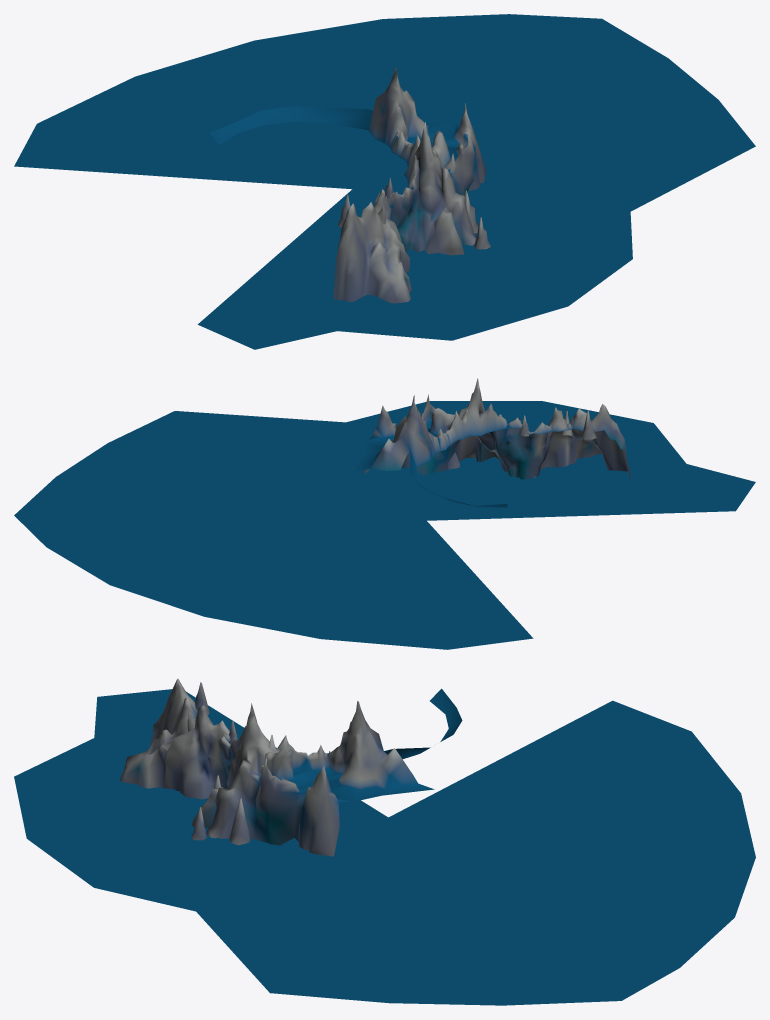
3 renders of one model, top to bottom at view 1: azimuth 30°, elevation 25°; view 2: azimuth 150°, elevation 25°; view 3: azimuth 270°, elevation 25°, orthographic. The views are drawn at different scales.
Parts seen in each view (by area): view 1: G:\FFXIV-MapTools\exports\w1f5\bg\ffxiv\wil_w1\fld\w1f5\bgpa (×2); view 2: G:\FFXIV-MapTools\exports\w1f5\bg\ffxiv\wil_w1\fld\w1f5\bgpa; view 3: G:\FFXIV-MapTools\exports\w1f5\bg\ffxiv\wil_w1\fld\w1f5\bgpa (×2).
Part boxes in pixels (x1,y1,x2,y2): G:\FFXIV-MapTools\exports\w1f5\bg\ffxiv\wil_w1\fld\w1f5\bgpa (×2): (14,14,755,349); G:\FFXIV-MapTools\exports\w1f5\bg\ffxiv\wil_w1\fld\w1f5\bgpa: (14,378,755,649); G:\FFXIV-MapTools\exports\w1f5\bg\ffxiv\wil_w1\fld\w1f5\bgpa (×2): (14,678,755,1005).
Bounding box in the file's own units: 578 × 132 × 571.
